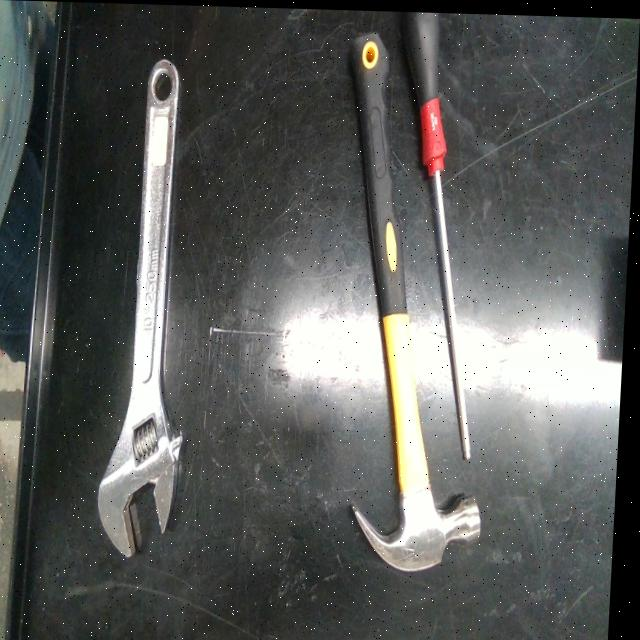Screwdriver: (402, 9, 476, 456)
